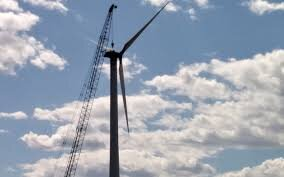faulty: (97, 8, 135, 84)
